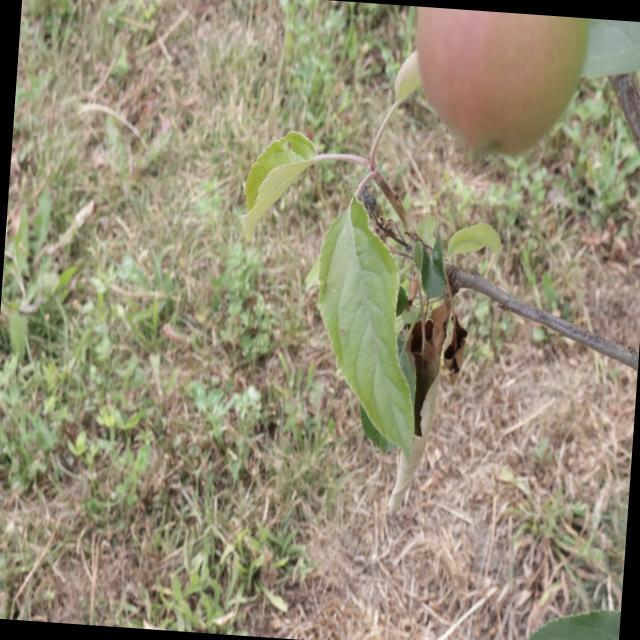-FireBlight-: (392, 281, 490, 451)
